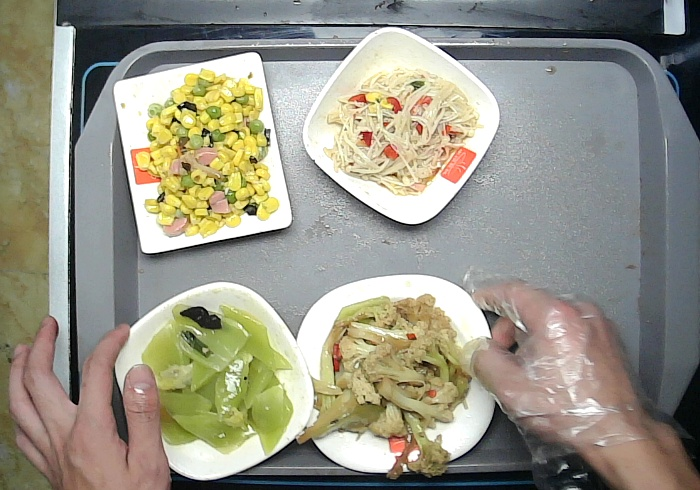SHKJ-Bai_Se_Cai_Die: (103, 279, 316, 478)
SHKJ-Bai_Se_Si_Fang_Cai_Die: (295, 275, 496, 471)
SHKJ-Si_Fang_Min: (303, 24, 502, 228), (114, 50, 294, 256)
